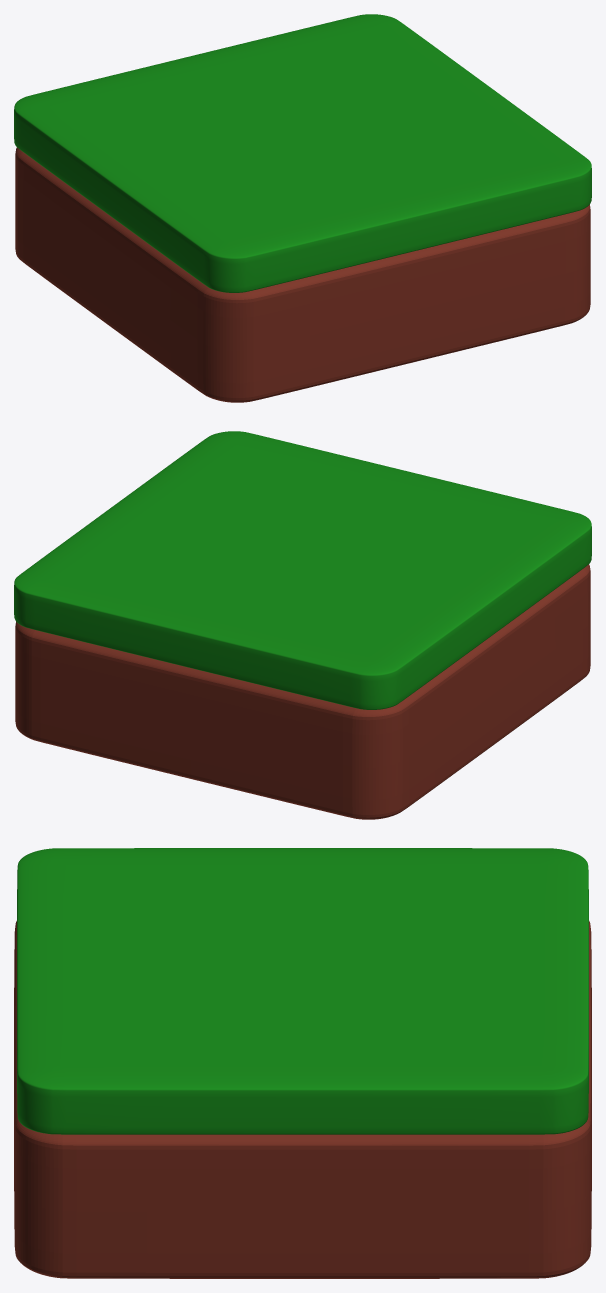
The model's file is Grass.fbx.
3 renders of one model, top to bottom at view 1: azimuth 30°, elevation 25°; view 2: azimuth 150°, elevation 25°; view 3: azimuth 270°, elevation 25°, orthographic. The views are drawn at different scales.
Visible parts, largest first — view 1: Cube.001, Cube; view 2: Cube.001, Cube; view 3: Cube.001, Cube.
Part boxes in pixels (left/top/right/bottom): Cube.001: left=14, top=14, right=591, bottom=292; Cube: left=15, top=147, right=590, bottom=402; Cube.001: left=14, top=431, right=591, bottom=709; Cube: left=15, top=564, right=590, bottom=819; Cube.001: left=17, top=848, right=588, bottom=1134; Cube: left=14, top=921, right=591, bottom=1278.
Bounding box in the file's own units: 3232 × 1249 × 3232.
